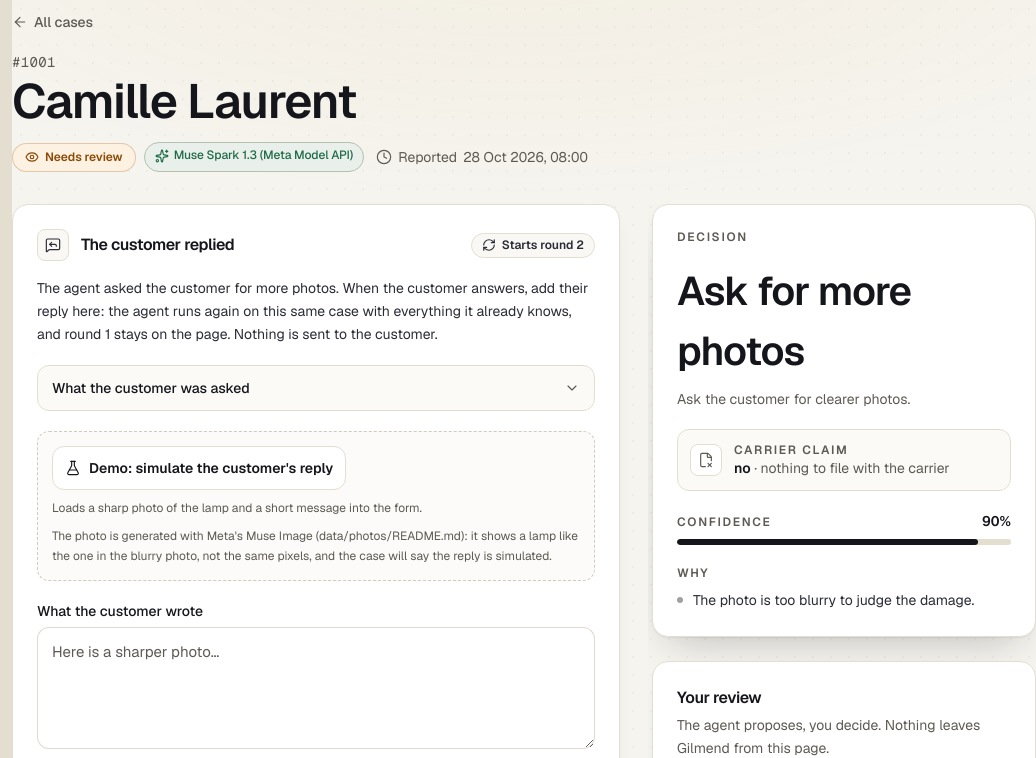
Test: the demo button: simulate the customer's reply › loads the sharp photo and a short message into the form, says what the photo is, and sends nothing yet
The image size is (1036, 758).
Step 1. Click the button "Demo: simulate the customer's reply" → (199, 468), box top-left (52, 446), bottom-right (346, 490)
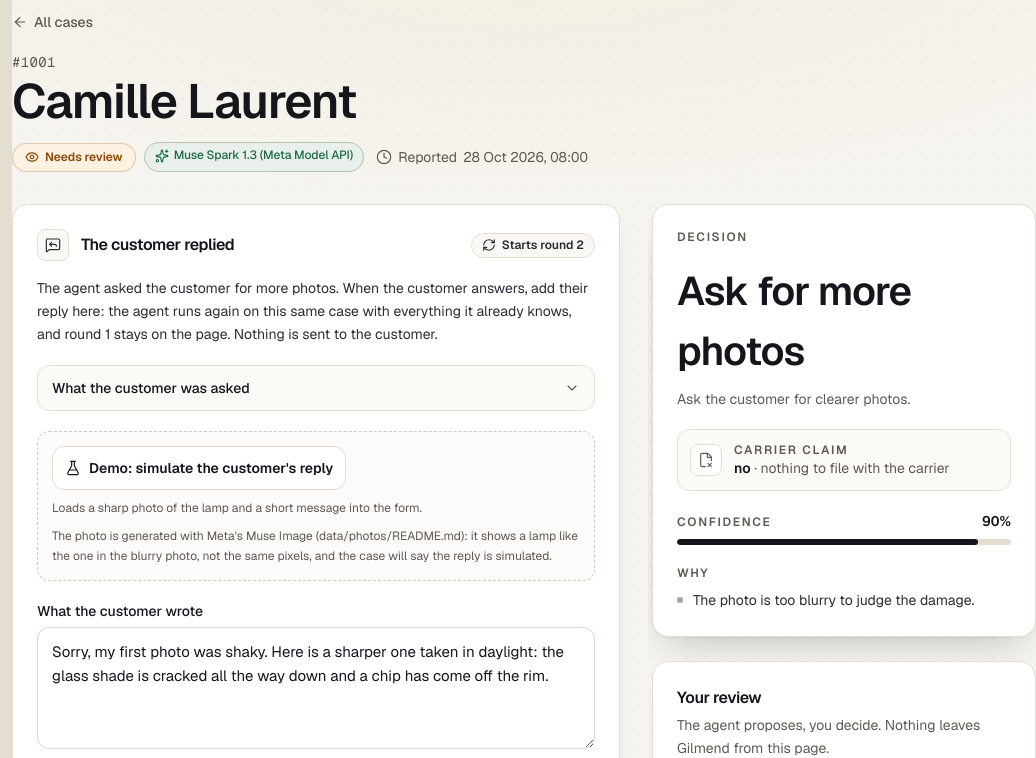
Expected: the text "the case will say the reply is simulated" is shown, top-left (52, 528), bottom-right (578, 564)
Now the text box labelled "What the customer wrote" holds "Sorry, my first photo was shaky. Here is a sharper one taken in daylight: the glass shade is cracked all the way down and a chip has come off the rim.", box top-left (37, 627), bottom-right (595, 749)
